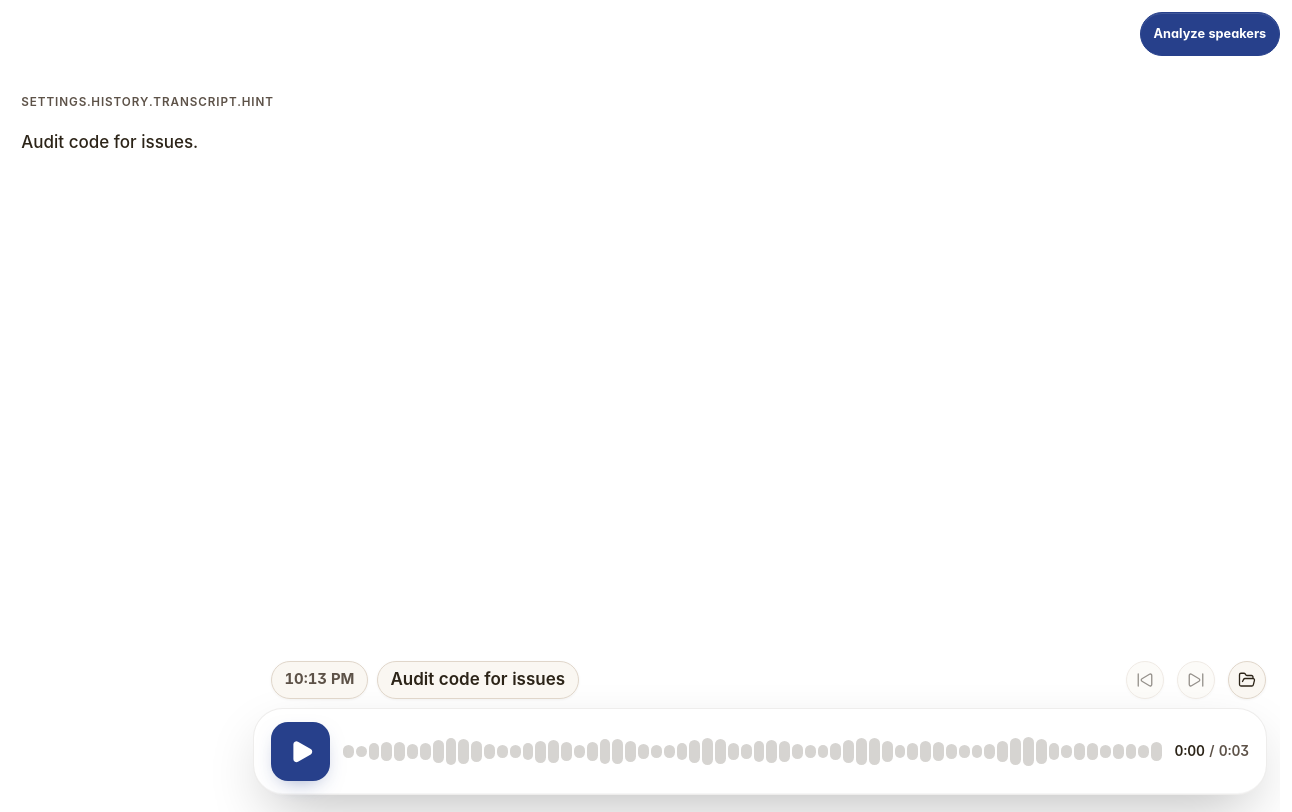
Test case: TranscriptView speaker analysis › offers model selection when analysis reports that a model is required
Click the button "Analyze speakers" at (1210, 34), box [1140, 12, 1280, 56]
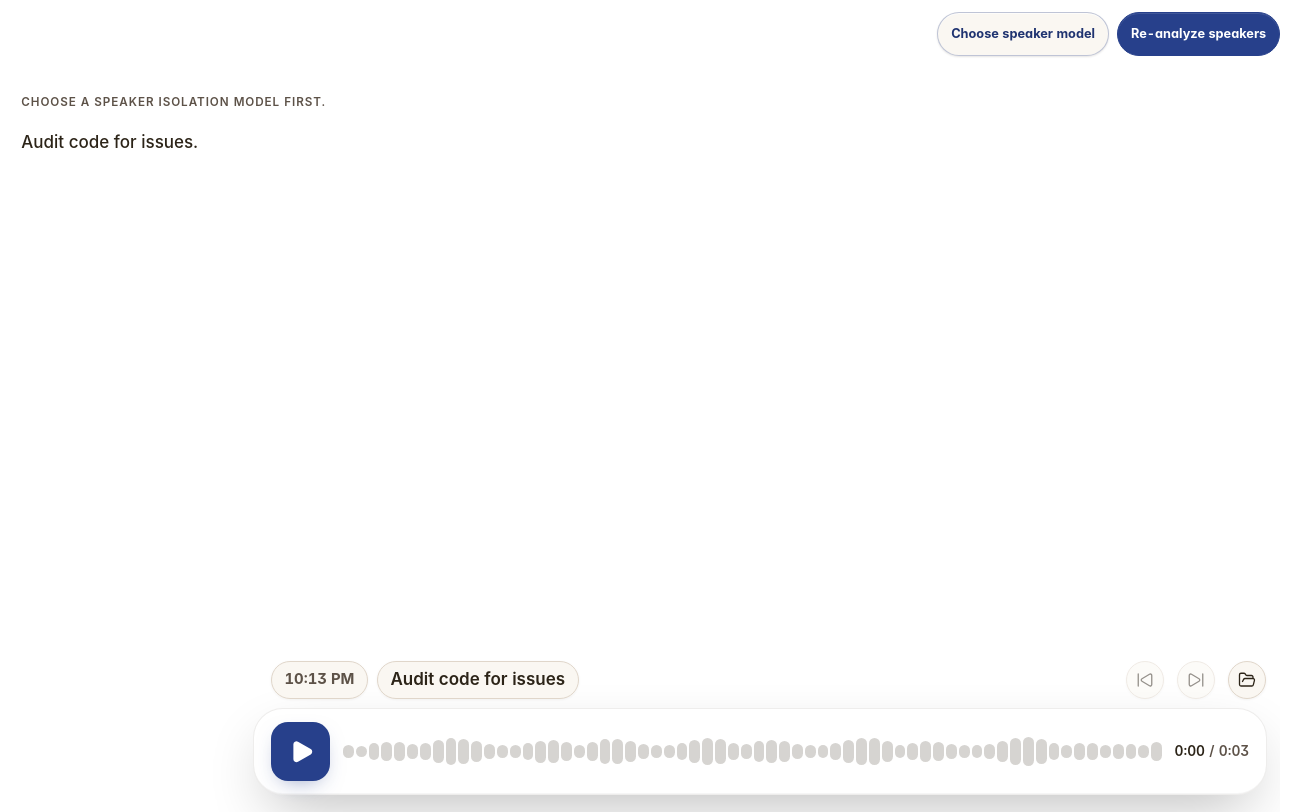
Expected: the text "Choose speaker model" is shown, [937, 12, 1109, 56]
Expected: the text "Re-analyze speakers" is shown, [1117, 12, 1280, 56]
